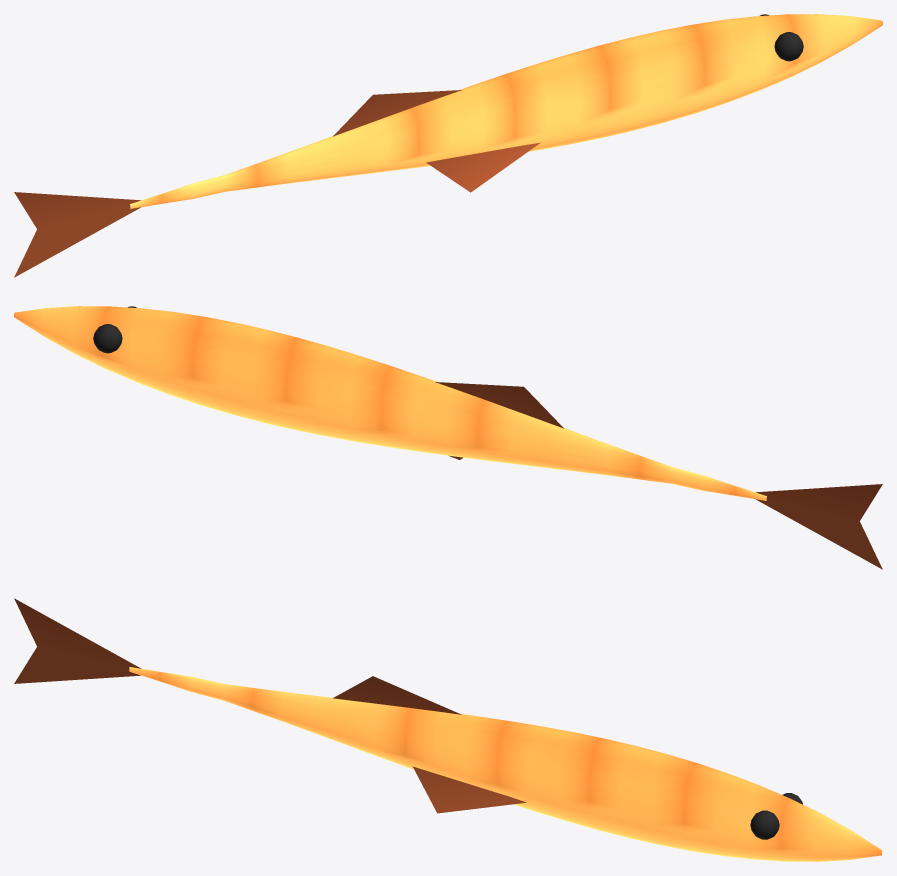
The model's file is fish_ohnivy.glb.
3 views of the same model, one above another, from view 1: azimuth 30°, elevation 25°; view 2: azimuth 150°, elevation 25°; view 3: azimuth 330°, elevation 25° (orthographic).
Visible parts, largest first — view 1: fish_ohnivy; view 2: fish_ohnivy; view 3: fish_ohnivy.
Part boxes in pixels (box(x1,y1,x2,y2)): fish_ohnivy: box(14, 14, 882, 277); fish_ohnivy: box(14, 306, 882, 569); fish_ohnivy: box(14, 598, 882, 861).
Bounding box in the file's own units: 0.9904 × 0.1149 × 0.0766.
